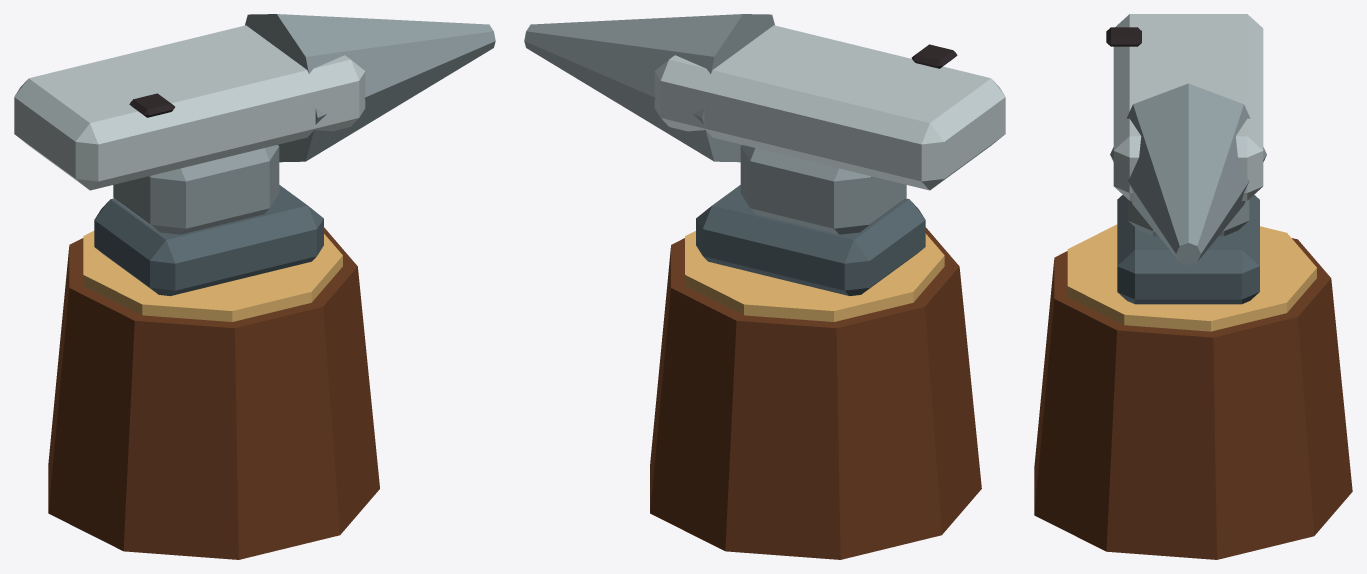
File: station_anvil.glb
3 renders of one model, left to right at view 1: azimuth 30°, elevation 25°; view 2: azimuth 150°, elevation 25°; view 3: azimuth 270°, elevation 25°, orthographic. The views are drawn at different scales.
Parts seen in each view (by area): view 1: Stump_Base, Anvil_Face, Anvil_Horn, Anvil_Foot, Stump_Cut, Anvil_Waist, Hardy_Hole; view 2: Stump_Base, Anvil_Face, Anvil_Horn, Anvil_Foot, Stump_Cut, Anvil_Waist, Hardy_Hole; view 3: Stump_Base, Anvil_Horn, Anvil_Face, Stump_Cut, Anvil_Foot, Anvil_Waist, Hardy_Hole.
Part boxes in pixels (x1,y1,x2,y2): Stump_Base: (48, 227, 379, 559); Anvil_Face: (14, 25, 365, 190); Anvil_Horn: (245, 14, 495, 162); Anvil_Foot: (94, 185, 323, 296); Stump_Cut: (83, 231, 342, 321); Anvil_Waist: (113, 145, 279, 234); Hardy_Hole: (129, 93, 174, 117); Stump_Base: (650, 227, 981, 559); Anvil_Face: (654, 25, 1005, 190); Anvil_Horn: (524, 14, 774, 162); Anvil_Foot: (696, 185, 925, 296); Stump_Cut: (685, 231, 944, 321); Anvil_Waist: (740, 145, 906, 234); Hardy_Hole: (911, 44, 957, 68); Stump_Base: (1034, 238, 1352, 559); Anvil_Horn: (1110, 83, 1266, 265); Anvil_Face: (1113, 14, 1263, 200); Stump_Cut: (1067, 224, 1316, 331); Anvil_Foot: (1117, 194, 1259, 304); Anvil_Waist: (1128, 199, 1249, 236); Hardy_Hole: (1106, 27, 1141, 46).
Bounding box in the file's own units: 1.38 × 1.36 × 0.8923.
